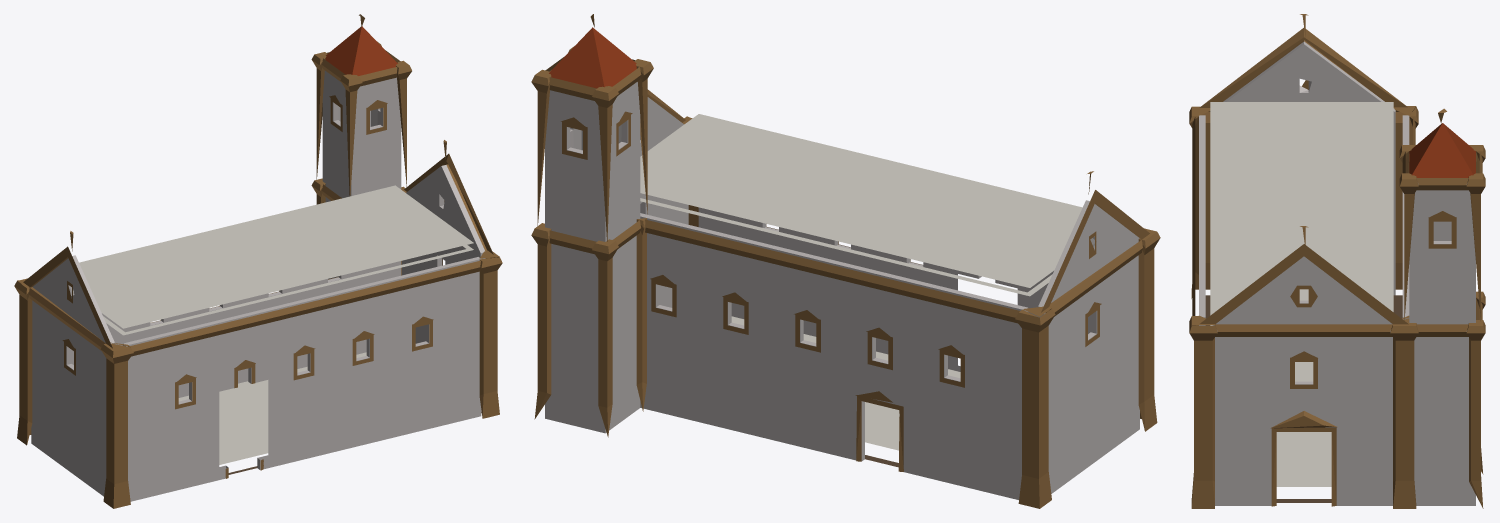
Rendered from chapel.zfix-v14.lod2.glb.
3 renders of one model, left to right at view 1: azimuth 30°, elevation 25°; view 2: azimuth 150°, elevation 25°; view 3: azimuth 270°, elevation 25°, orthographic. The views are drawn at different scales.
Visible parts, largest first — view 1: Object_4; view 2: Object_4; view 3: Object_4.
Boxes of the visible parts, x1,y1,x2,y2 form: Object_4: (14, 14, 502, 508); Object_4: (531, 14, 1160, 508); Object_4: (1189, 14, 1485, 508).
Size of the model in its own units: 12 by 9.67 by 6.78.
